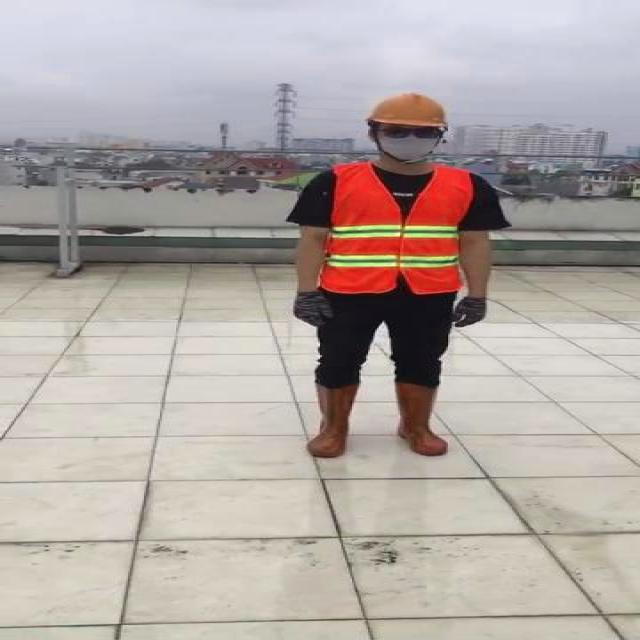boots: (300, 384, 364, 458), (391, 382, 450, 456)
face_mask: (374, 123, 444, 160)
glasses: (378, 123, 447, 141)
hand_glove: (290, 294, 334, 328), (450, 293, 487, 325)
head_helmet: (366, 92, 452, 130)
person: (279, 89, 503, 464)
vest: (323, 165, 473, 294)
